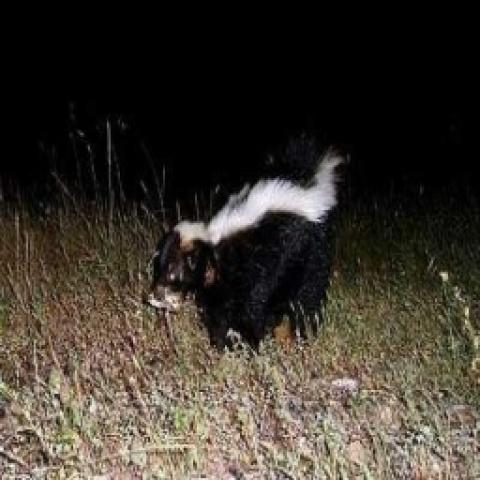small_animal: (140, 133, 348, 358)
